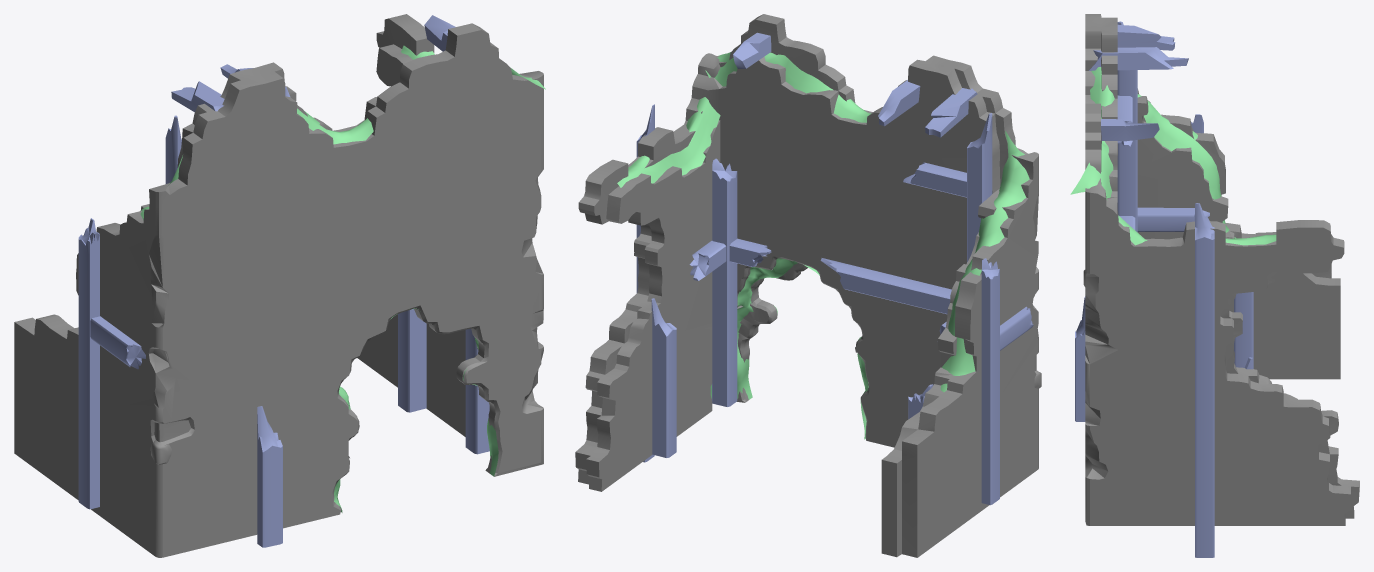
Rendered from SM_Castle_Entrance_B.fbx.
3 renders of one model, left to right at view 1: azimuth 30°, elevation 25°; view 2: azimuth 150°, elevation 25°; view 3: azimuth 270°, elevation 25°, orthographic. The views are drawn at different scales.
Parts seen in each view (by area): view 1: SM_Castle_Entrance_B_LOD0; view 2: SM_Castle_Entrance_B_LOD0; view 3: SM_Castle_Entrance_B_LOD0.
Part boxes in pixels (<box>): SM_Castle_Entrance_B_LOD0: <box>14,14,545,557</box>; SM_Castle_Entrance_B_LOD0: <box>575,14,1041,557</box>; SM_Castle_Entrance_B_LOD0: <box>1070,14,1359,557</box>.
Size of what is drawn, in the model's own units: 825 by 934 by 593.
